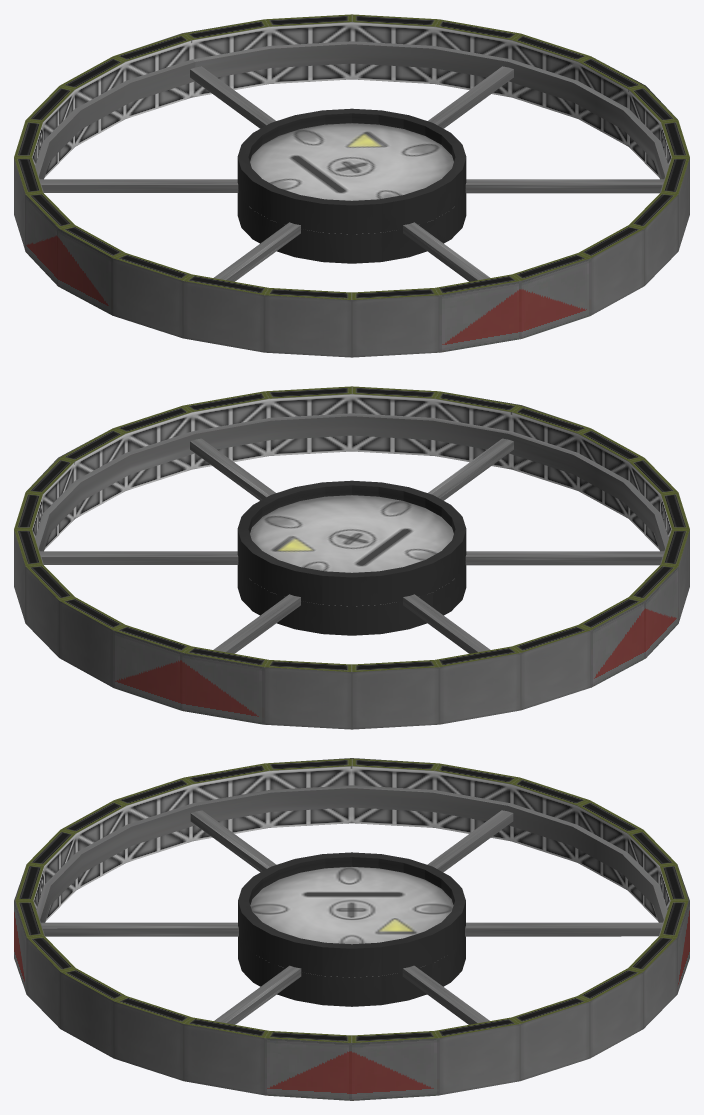
Rendered from S18Separator.FBX.
The picture shows the model from 3 angles, top to bottom: view 1: azimuth 30°, elevation 25°; view 2: azimuth 150°, elevation 25°; view 3: azimuth 270°, elevation 25°; orthographic projection.
Parts seen in each view (by area): view 1: MainBody, Cylinder047, Tube003, DecouplerDecals, Cylinder048, Box109, Box110, Box108; view 2: MainBody, Cylinder047, Tube003, DecouplerDecals, Cylinder048, Box110, Box108, Box109; view 3: MainBody, Cylinder047, Tube003, DecouplerDecals, Box108, Cylinder048, Box110, Box109.
Boxes of the visible parts, x1,y1,x2,y2 form: MainBody: [14, 14, 689, 357]; Cylinder047: [237, 108, 466, 234]; Tube003: [35, 41, 668, 192]; DecouplerDecals: [25, 21, 677, 352]; Cylinder048: [237, 189, 466, 263]; Box109: [40, 179, 663, 193]; Box110: [214, 66, 513, 281]; Box108: [190, 66, 489, 281]; MainBody: [14, 386, 689, 729]; Cylinder047: [237, 480, 466, 606]; Tube003: [35, 413, 668, 564]; DecouplerDecals: [26, 393, 678, 724]; Cylinder048: [237, 561, 466, 635]; Box110: [40, 551, 663, 565]; Box108: [213, 438, 513, 653]; Box109: [190, 438, 490, 653]; MainBody: [15, 758, 688, 1095]; Cylinder047: [238, 852, 465, 977]; Tube003: [36, 785, 667, 935]; DecouplerDecals: [14, 758, 689, 1100]; Box108: [41, 922, 662, 936]; Cylinder048: [238, 933, 465, 1006]; Box110: [190, 810, 489, 1024]; Box109: [214, 810, 513, 1024].
Size of what is drawn, in the model's own units: 1.88 by 0.1783 by 1.88.
